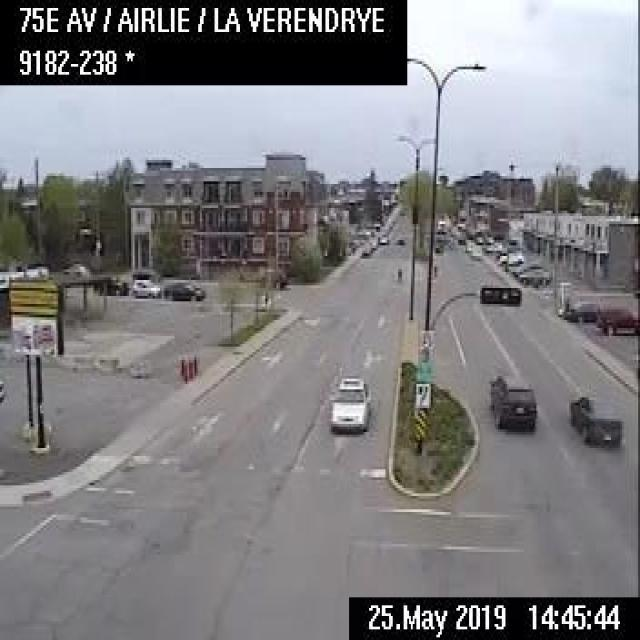construction: (192, 352, 198, 376), (181, 358, 187, 382), (187, 358, 193, 378)
vehicle: (566, 389, 622, 443), (488, 372, 535, 428), (327, 376, 368, 432), (593, 301, 638, 336), (562, 295, 600, 323), (161, 278, 204, 299), (91, 274, 127, 295), (517, 264, 550, 286), (130, 276, 162, 297), (497, 248, 523, 264), (469, 242, 482, 258), (358, 243, 373, 256), (463, 237, 472, 251), (456, 232, 466, 244), (377, 232, 387, 243)
